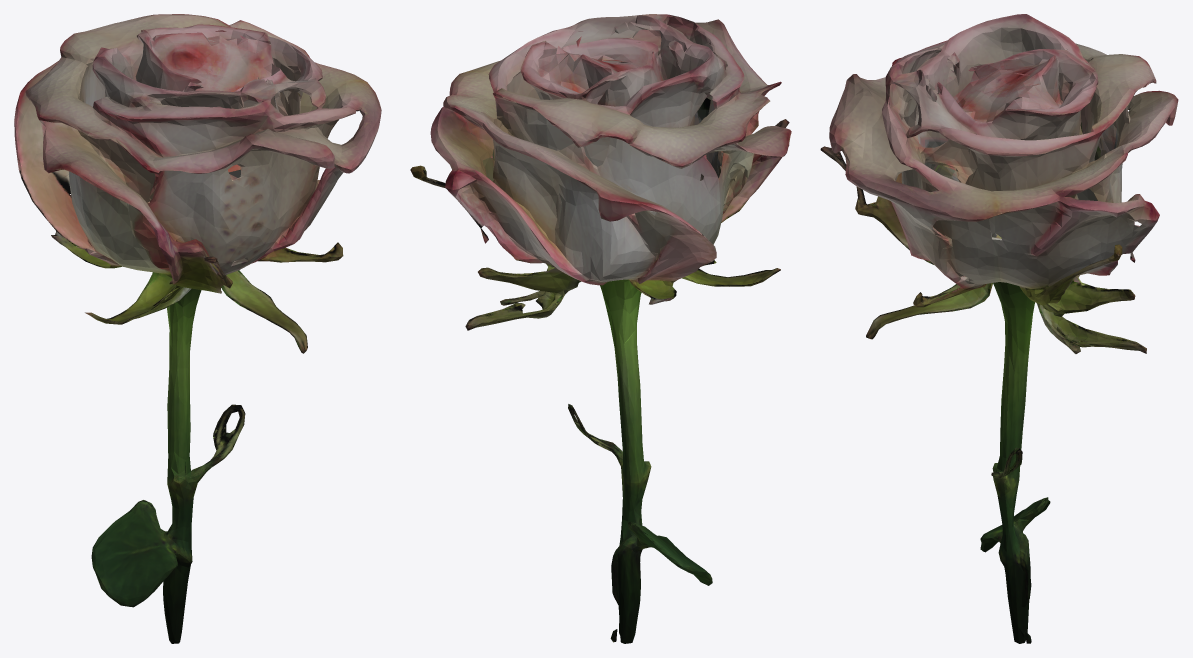
3 views of the same model, side by side, from view 1: azimuth 30°, elevation 25°; view 2: azimuth 150°, elevation 25°; view 3: azimuth 270°, elevation 25° (orthographic).
Parts seen in each view (by area): view 1: world; view 2: world; view 3: world.
Boxes of the visible parts, x1,y1,x2,y2 form: world: (14,14,381,643); world: (410,14,791,643); world: (820,14,1178,643).
Bounding box in the file's own units: 0.537 × 0.943 × 0.5153.
Materials: 1 (1 with a texture image).
